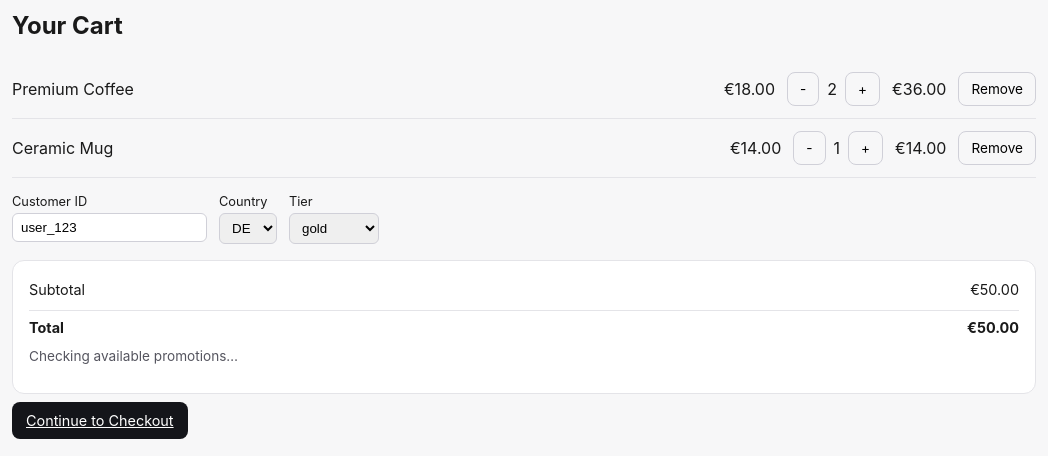
Test: CartPage › changes item quantity
Click the button named "Increase quantity of Premium Coffee" at (863, 89), box x1=845 y1=72 x2=880 y2=106
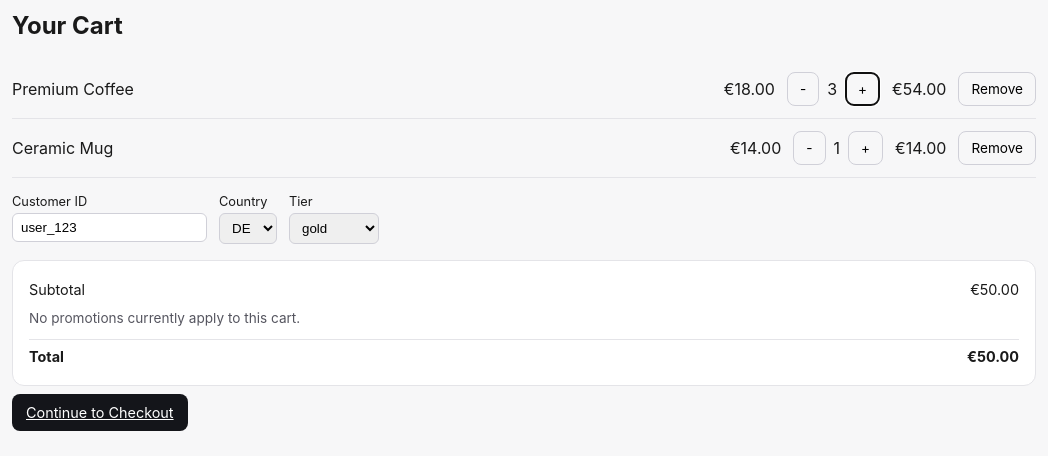
Expected: the text "3" is shown, x1=827 y1=79 x2=837 y2=99
